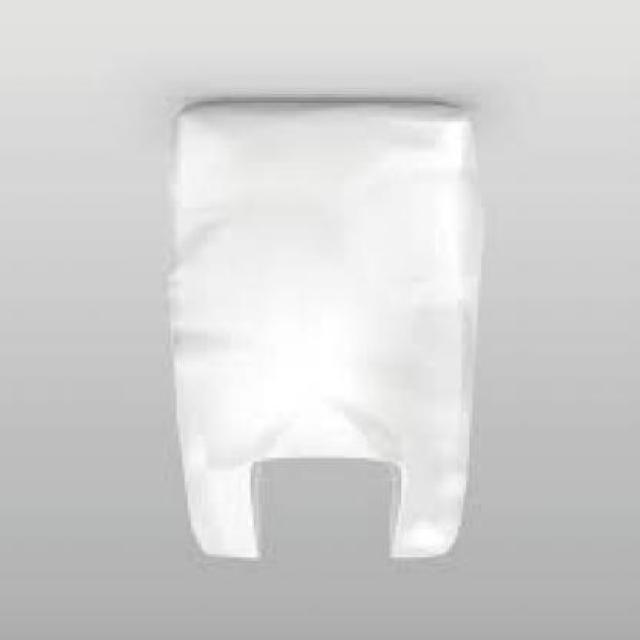PLASTIC: (171, 105, 486, 563)
